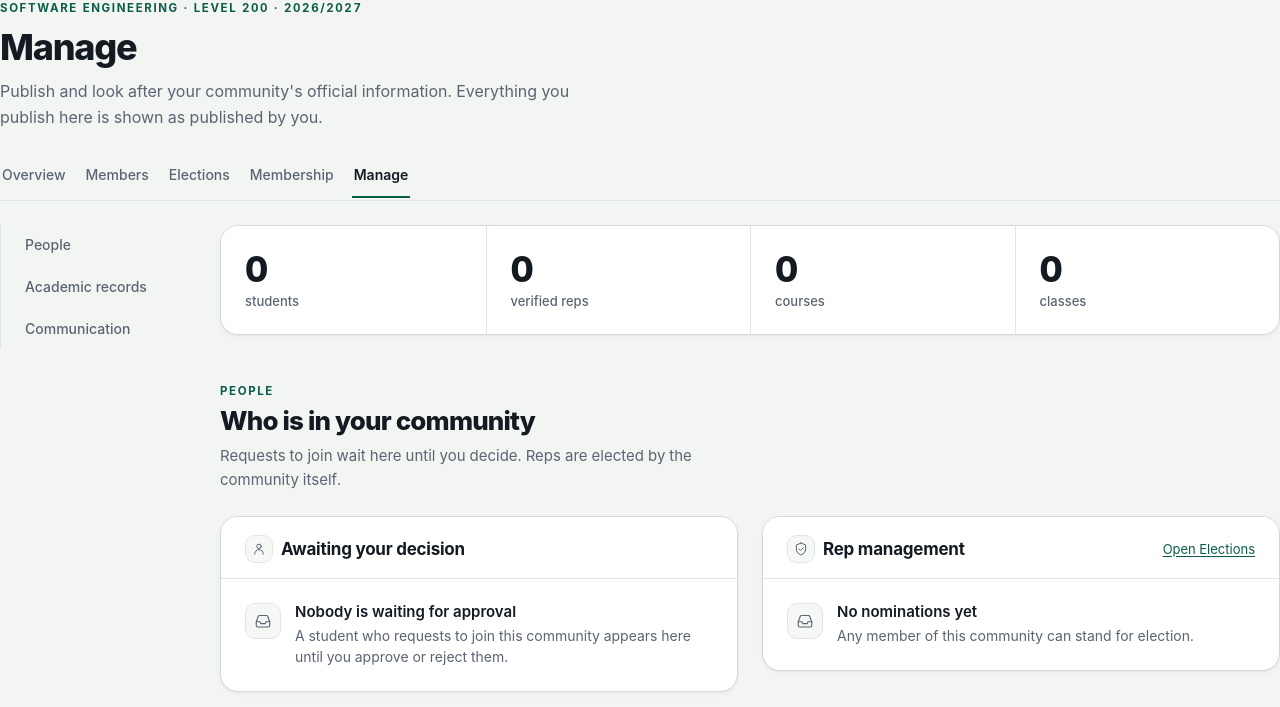
Test case: Community navigation › opens the section a link names
Expected: the heading "Manage" is shown, [0, 25, 136, 69]
Click the link "Elections" at (199, 175), box [169, 166, 230, 183]
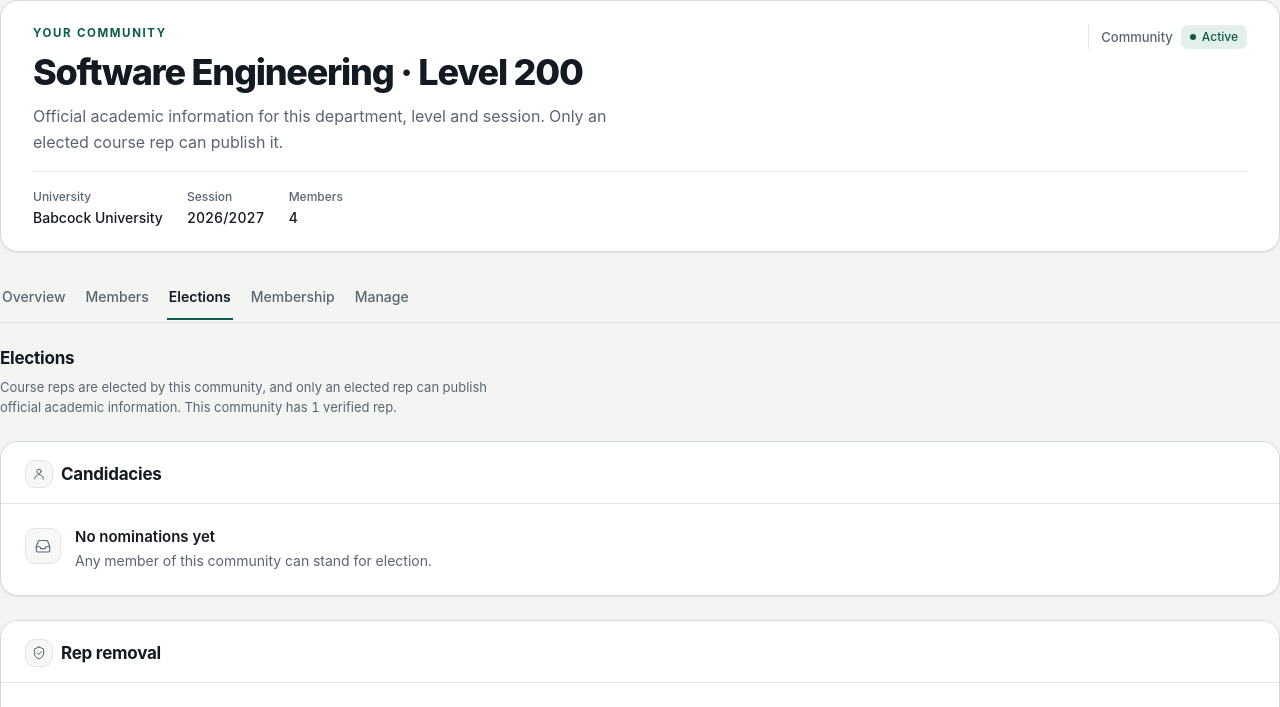
Result: the heading "Elections" is shown at [0, 348, 74, 368]
